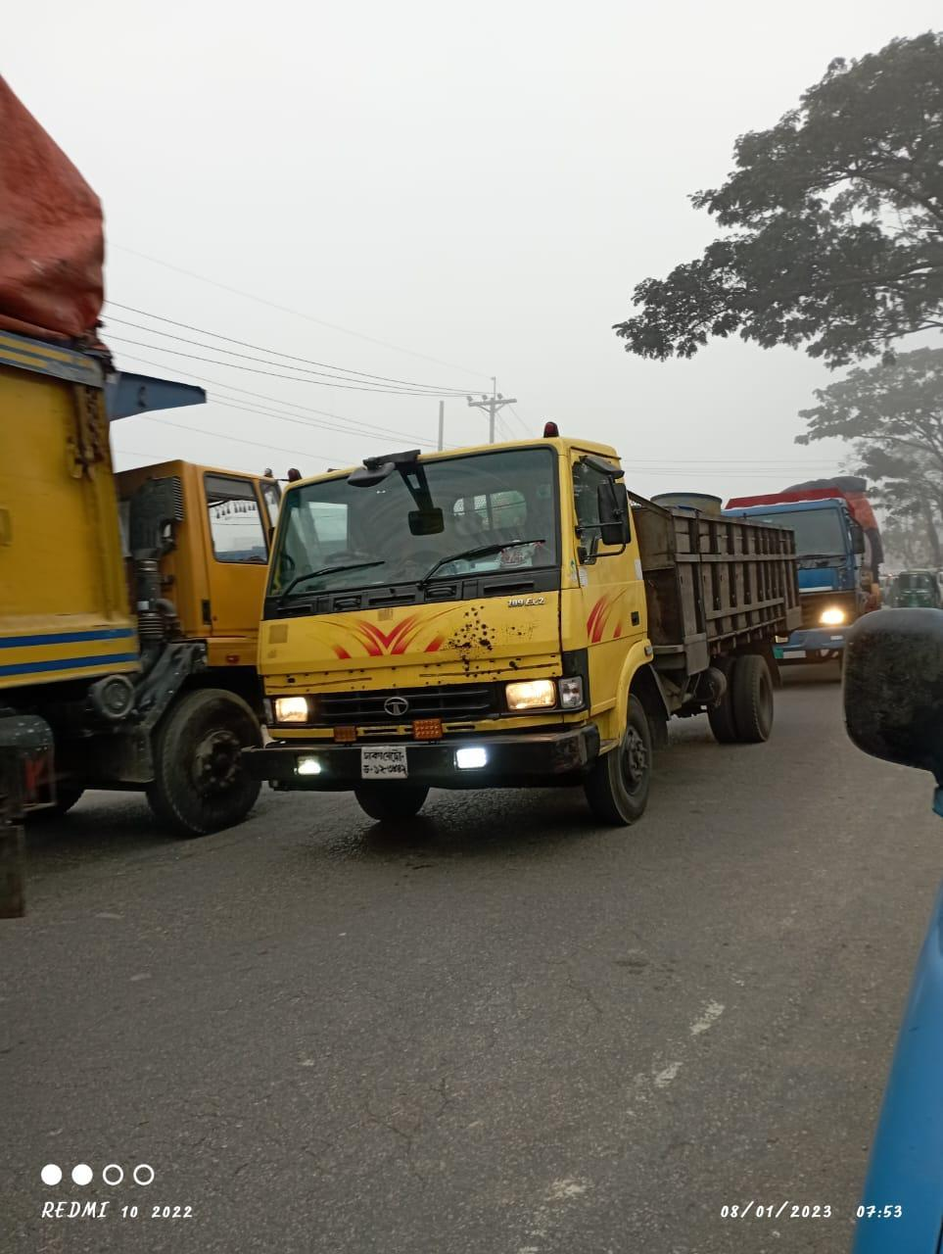Truck: (259, 426, 800, 819), (1, 68, 274, 842), (777, 471, 882, 662)
